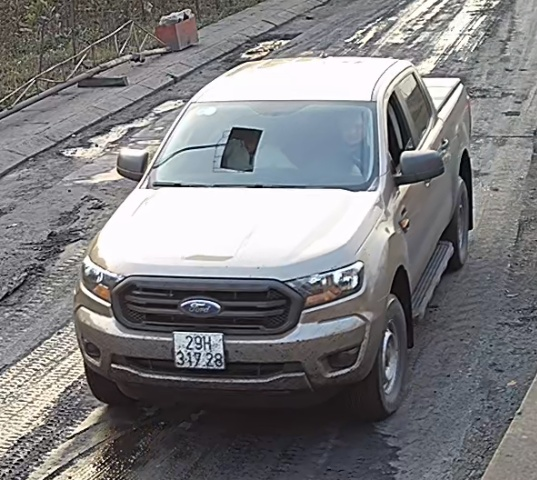vehicle plate: (166, 322, 228, 375)
